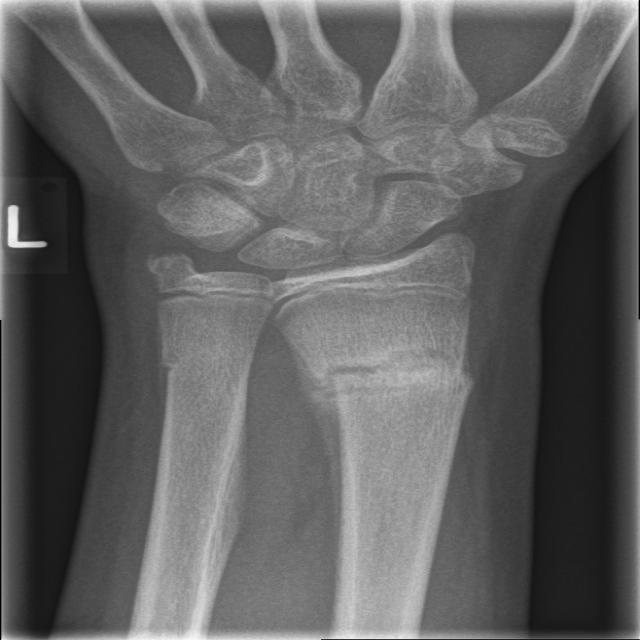radius fracture: (273, 308, 476, 474)
ulna fracture: (135, 310, 266, 462)
